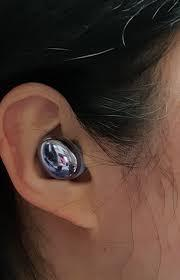earphone: (36, 128, 84, 188)
